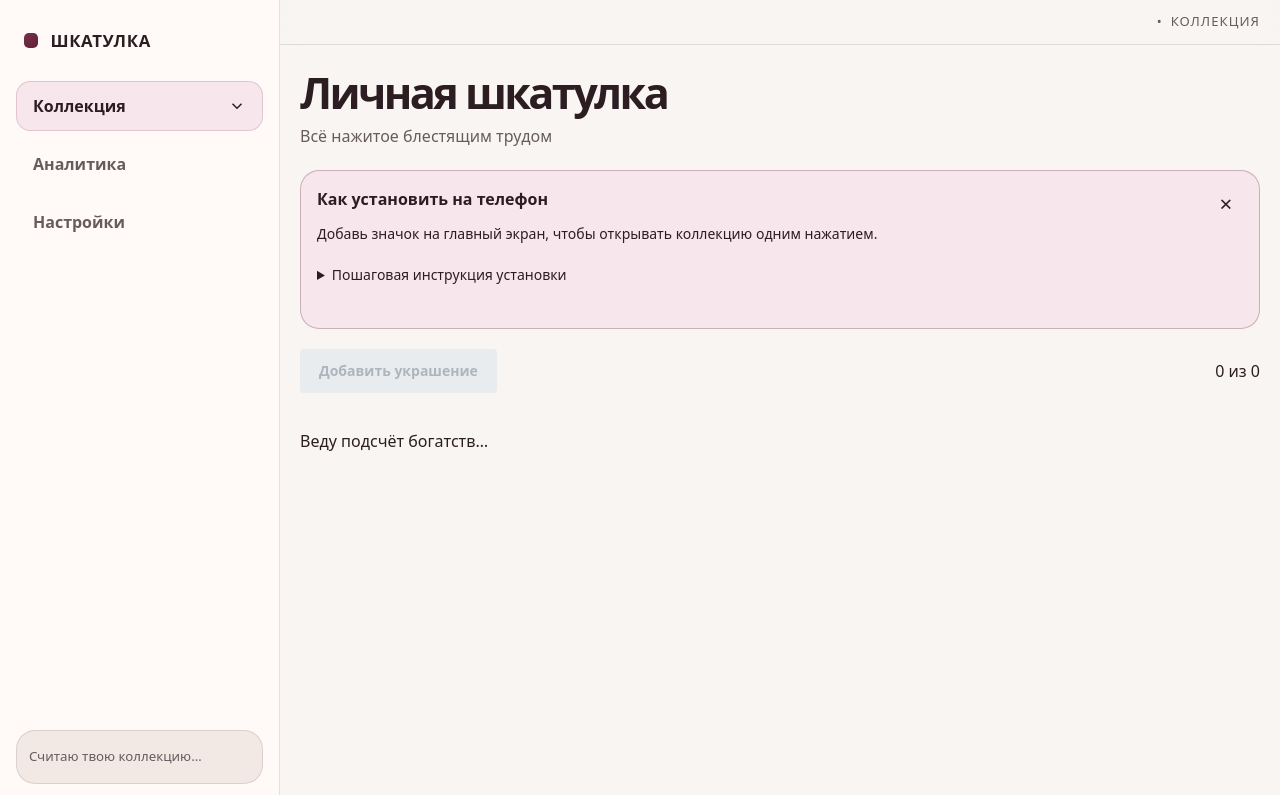
foundation app › shows real settings without the demonstration preview
Click the button "Настройки". click: (140, 222)
box: [16, 197, 263, 247]
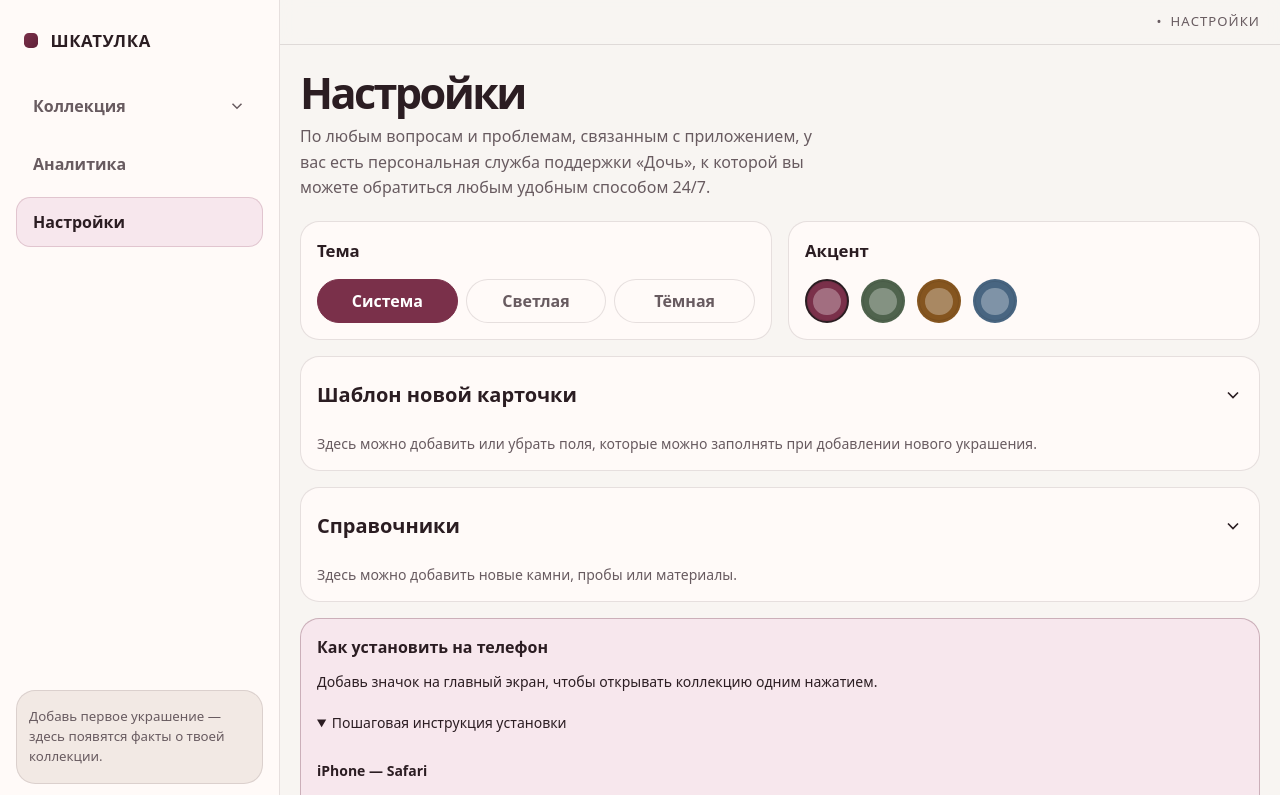
Now the heading "Настройки" is shown, box [300, 63, 525, 122]
Now the button named "Синий" is shown, box [973, 279, 1017, 323]
